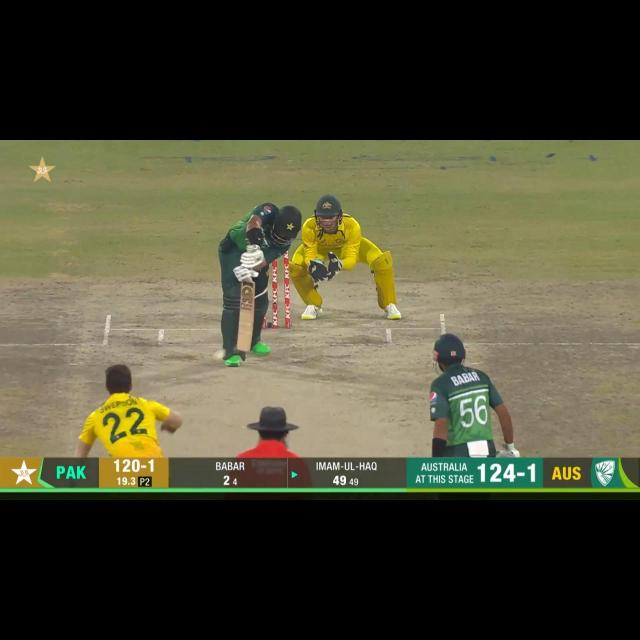bat: (233, 279, 258, 353)
toe: (232, 334, 254, 354)
